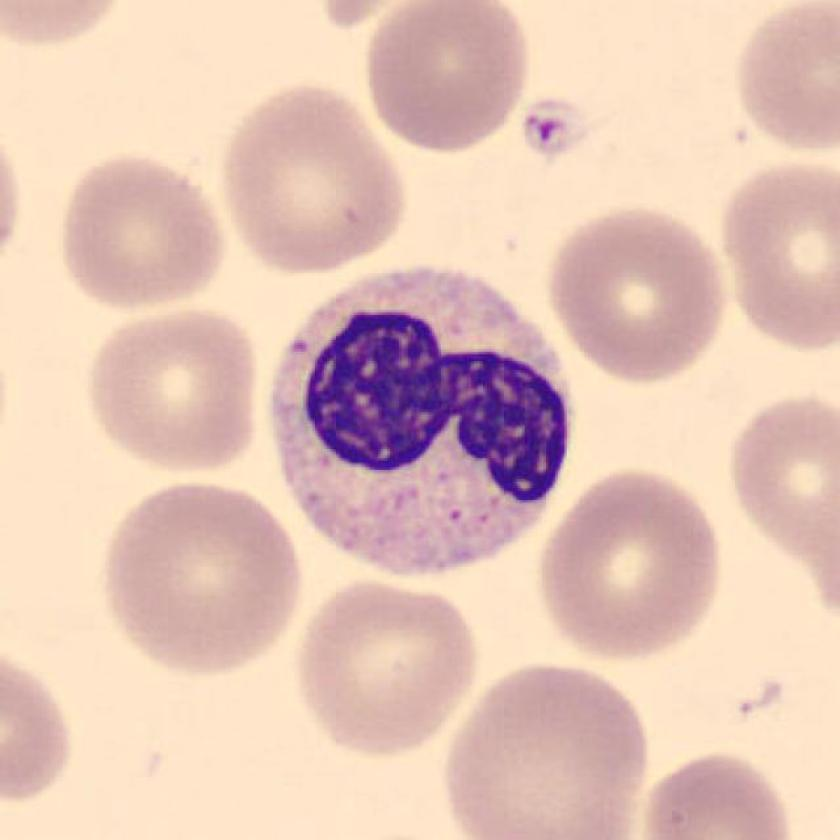neutrophil: (272, 265, 574, 578)
